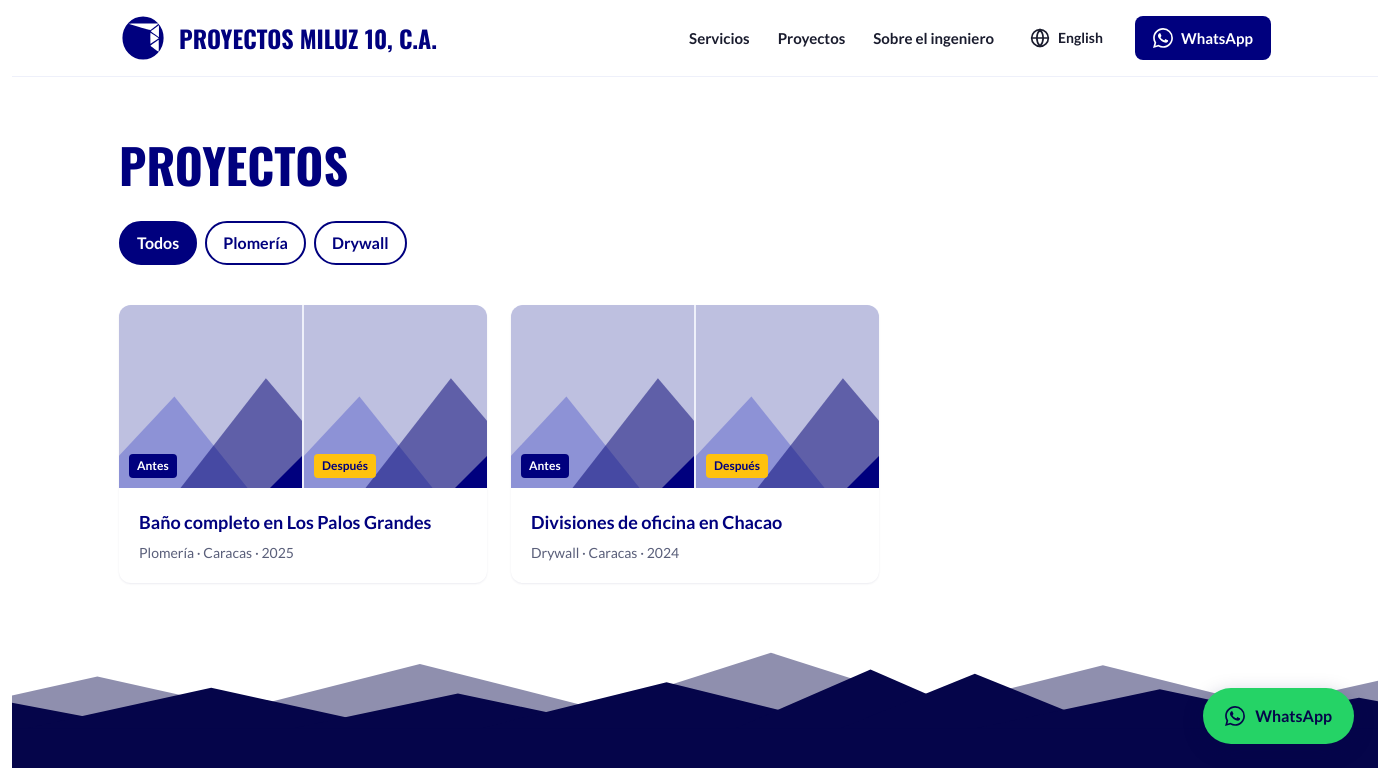
Test: portfolio › narrows the projects to one service and back to all
Step 1. Click the button "Drywall" → (360, 243), box [314,221,407,265]
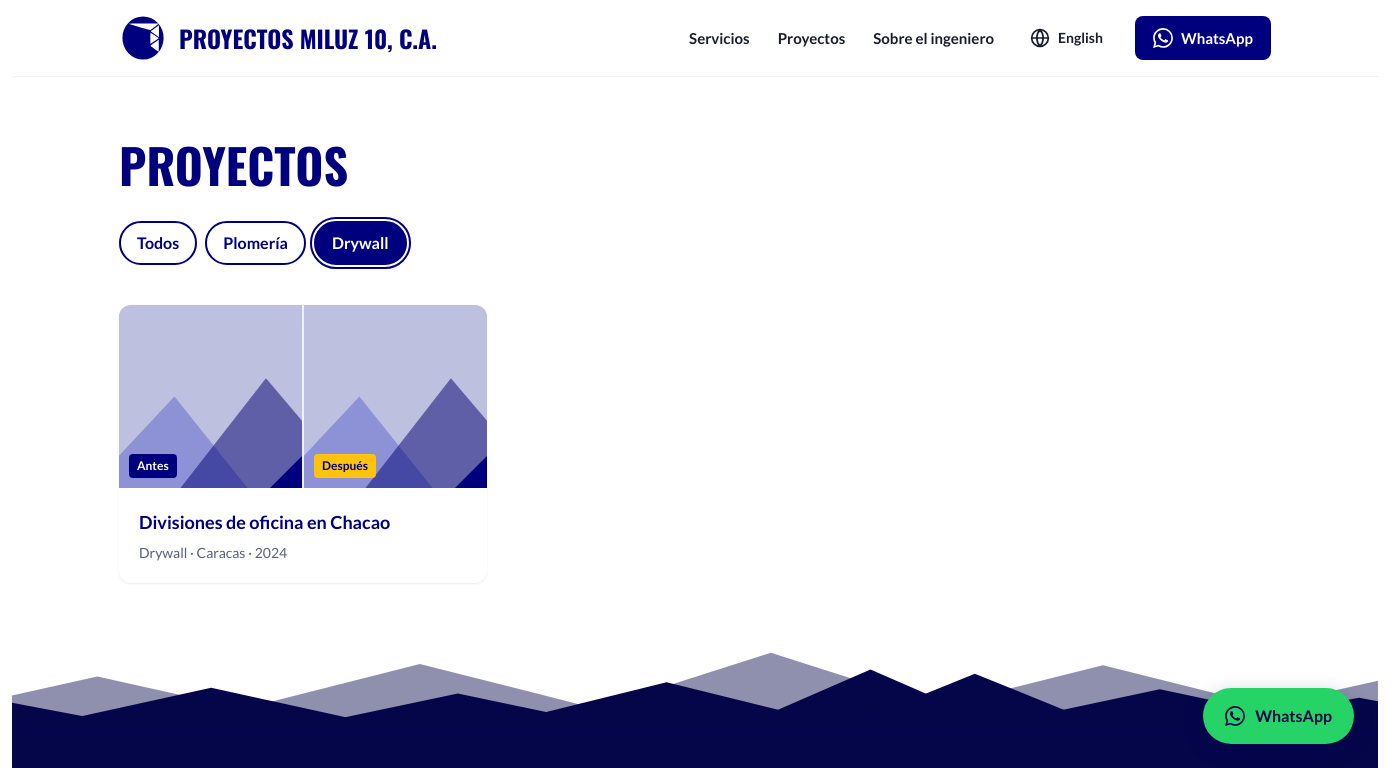
Step 2. Click the button "Todos" → (158, 243), box [119,221,197,265]
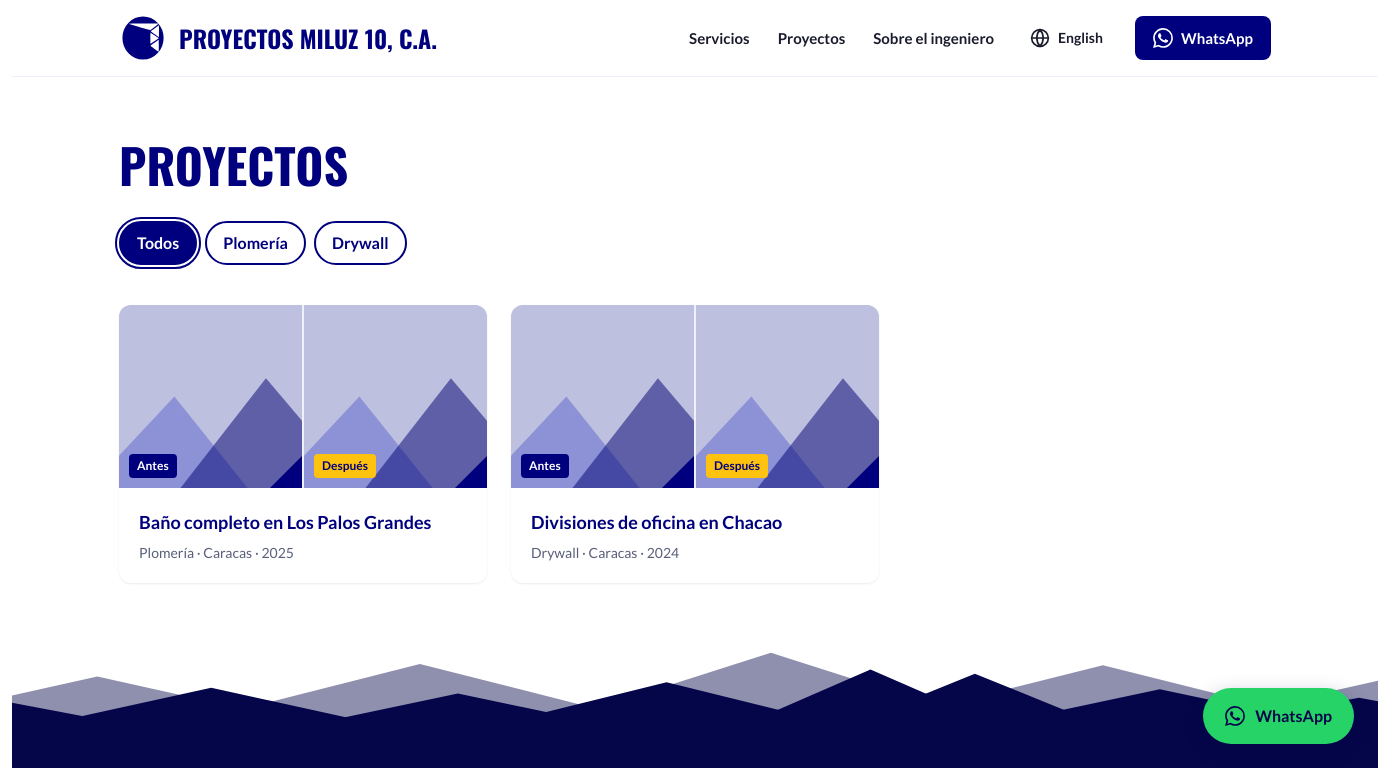
Check: the button "Drywall" is not pressed, box [314,221,407,265]
